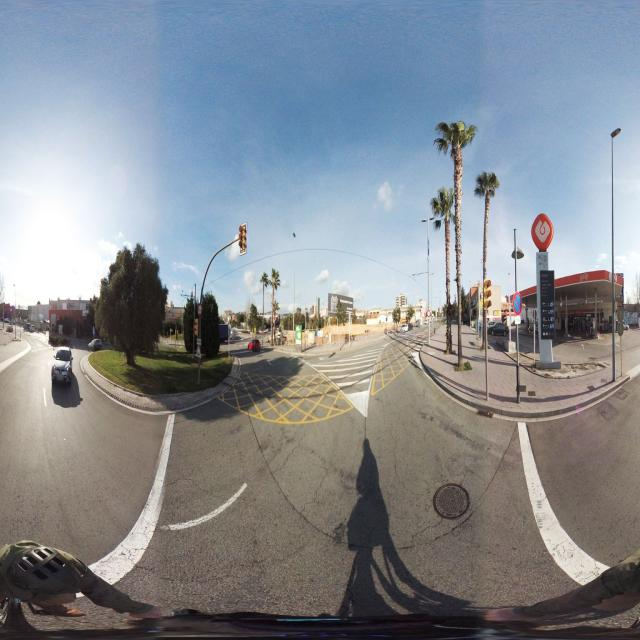forb_stopping: (513, 292, 522, 316)
